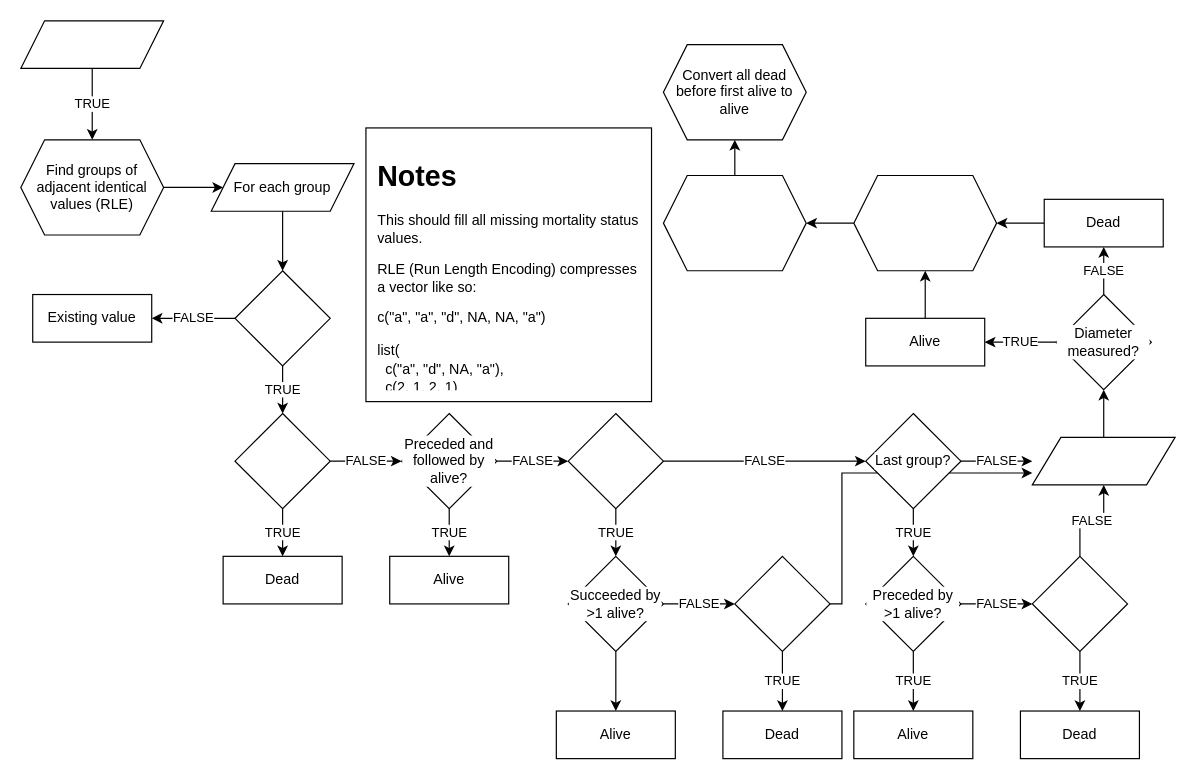
Image size: 1196x779. Some labels were removed from this diagram. The box of each missing label's shape, as (x1, y1, x2, y2) in pixels:
Convert all dead between first and last alive to alive: (662, 174, 806, 271)
Find first and last alive: (853, 174, 997, 271)
First group?: (567, 412, 663, 509)
For each remaining missing measurement: (1031, 436, 1175, 485)
For each stem: (20, 20, 164, 68)
Missing? (NA): (234, 270, 330, 366)
Preceded and followed by dead?: (234, 412, 330, 509)
Preceded by >1 dead?: (1031, 555, 1128, 652)
Succeeded by >1 dead?: (734, 555, 830, 652)
